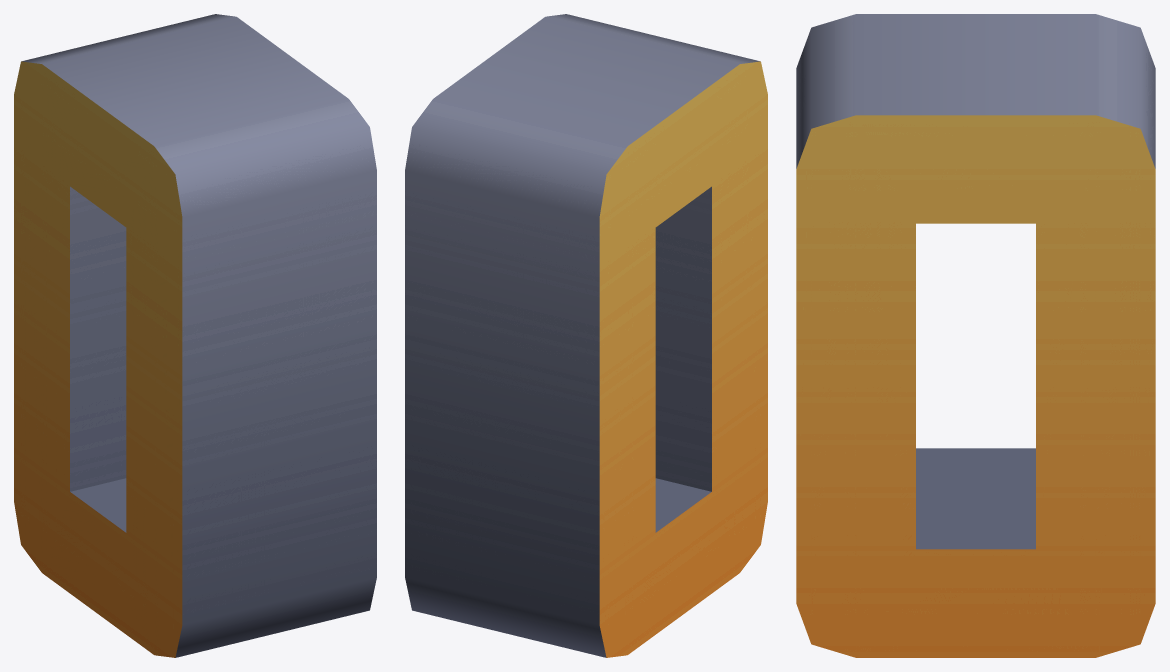
Rendered from number-0.glb.
3 views of the same model, side by side, from view 1: azimuth 30°, elevation 25°; view 2: azimuth 150°, elevation 25°; view 3: azimuth 270°, elevation 25° (orthographic). The views are drawn at different scales.
Parts seen in each view (by area): view 1: number-0; view 2: number-0; view 3: number-0.
Boxes of the visible parts, x1,y1,x2,y2 form: number-0: (14, 14, 376, 657); number-0: (405, 14, 767, 657); number-0: (796, 14, 1155, 657).
Size of the model in its own units: 0.2 by 0.5 by 0.3.
1 material, 1 textured.
